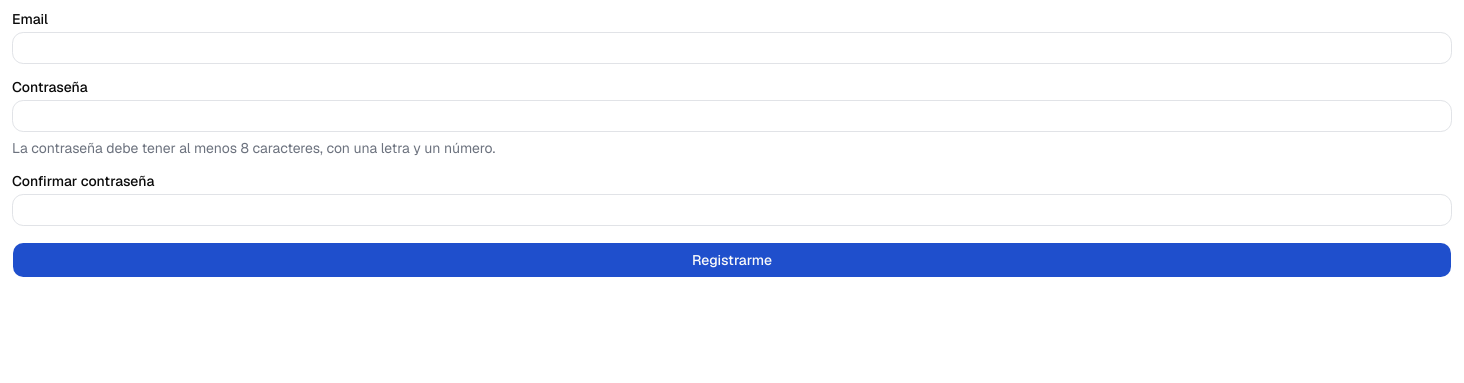
RegisterForm (spec: web-auth-flow Registration) › never tells the user an email is already registered, even on a stray 409 (no account enumeration)
Type "user@example.com" into the field labelled "Email". click: (732, 48)
box: [12,32,1452,64]
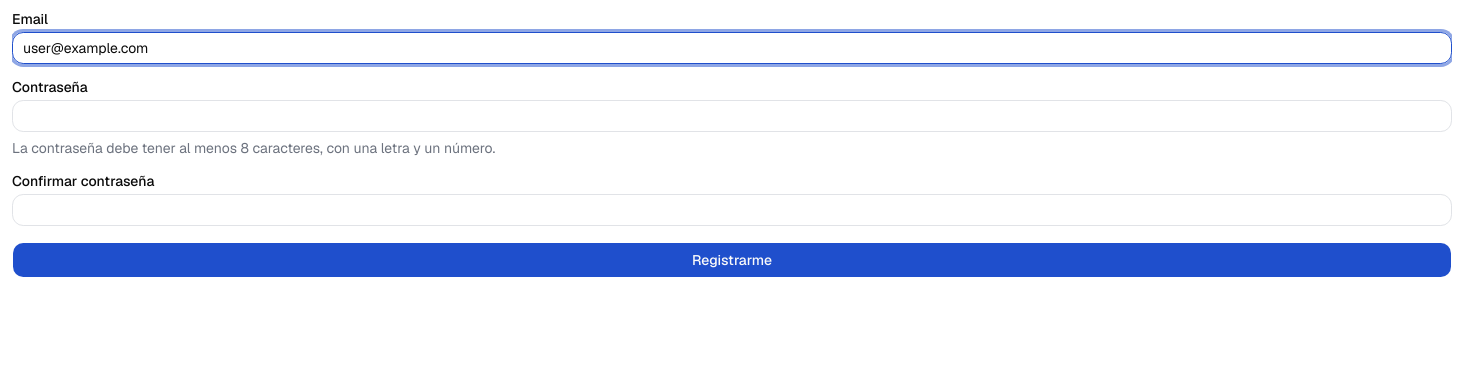
Type "correcthorse1" into the password field labelled "Contraseña". click: (732, 116)
box: [12,100,1452,132]
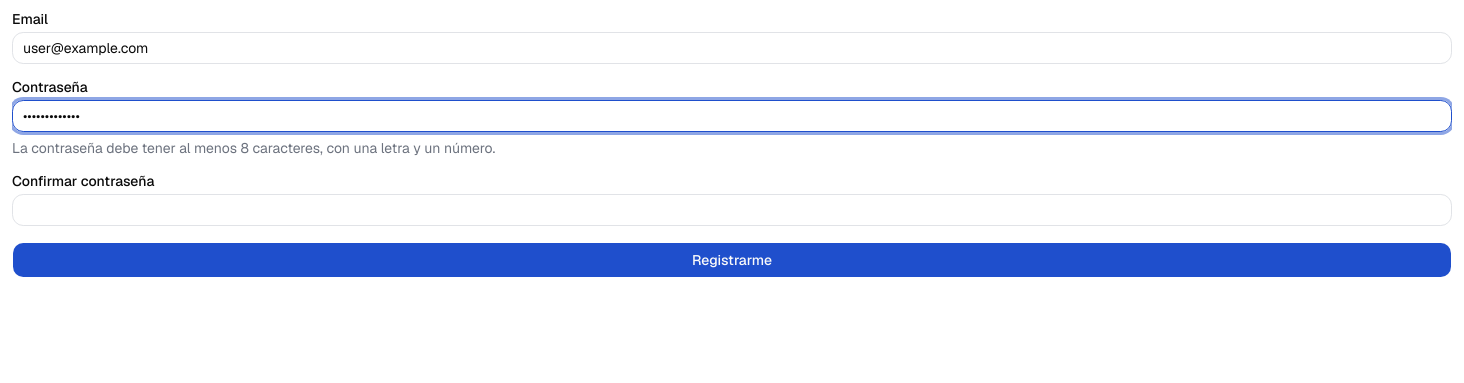
Type "correcthorse1" into the password field labelled "Confirmar contraseña". click: (732, 210)
box: [12,194,1452,226]
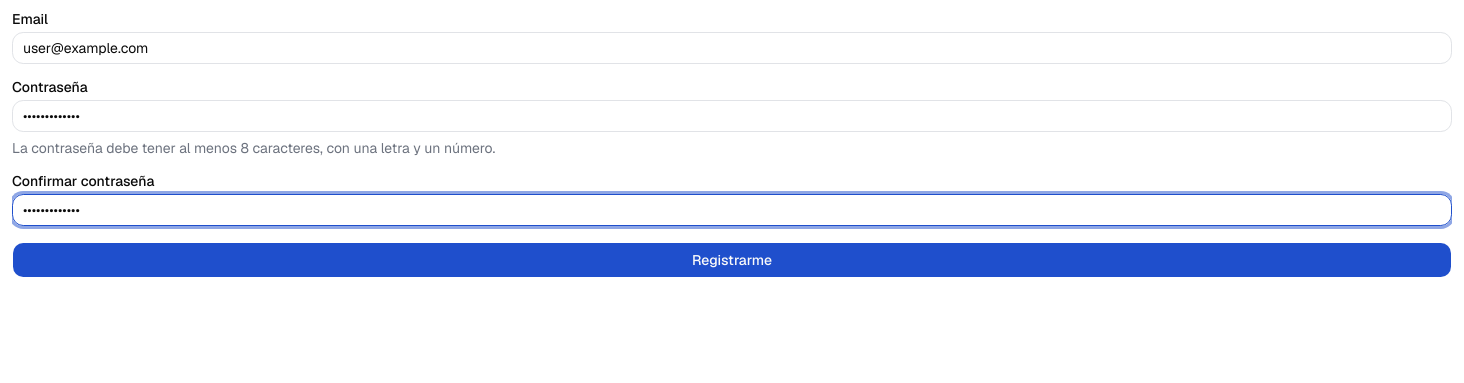
Click the button "Registrarme". click: (732, 260)
box: [12,242,1452,278]
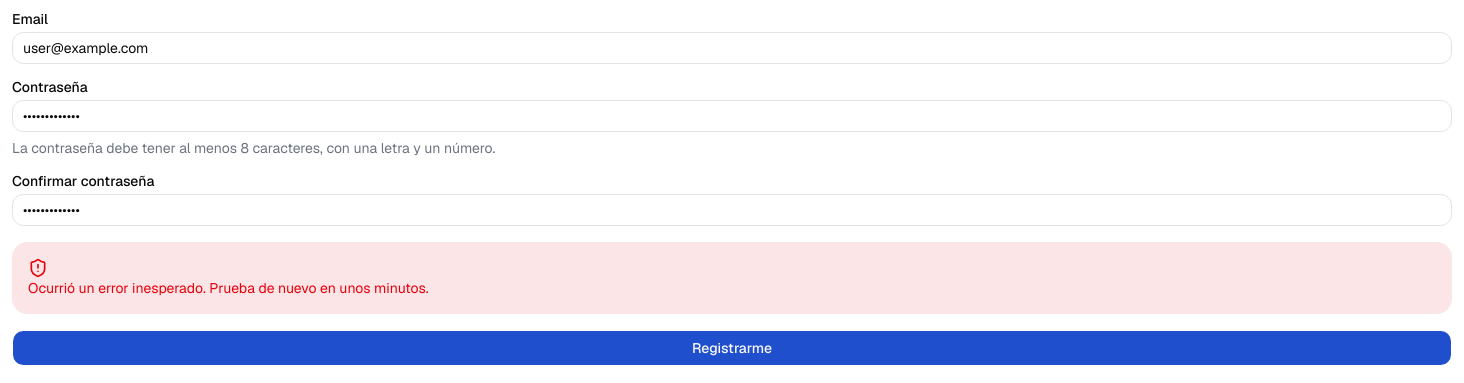
Expected: the button "Registrarme" is enabled, [12,330,1452,366]
Now the text "Ocurrió un error inesperado. Prueba de nuevo en unos minutos." is shown, box [28,279,428,297]
